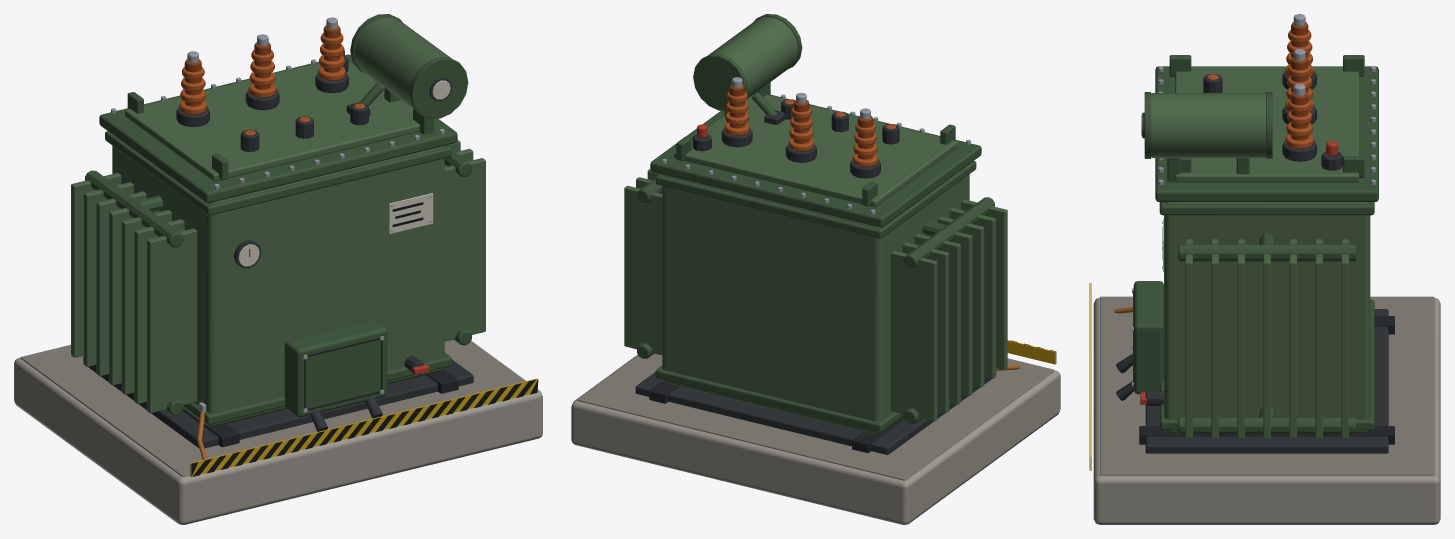
The model's file is py_transformer.glb.
3 views of the same model, side by side, from view 1: azimuth 30°, elevation 25°; view 2: azimuth 150°, elevation 25°; view 3: azimuth 270°, elevation 25° (orthographic). The views are drawn at different scales.
Parts seen in each view (by area): view 1: block.006, block.001, block.010, block.002, block.017, block.009, block.028, block.024, block.003, cyl.029, block.008, block (+10 smaller); view 2: block.006, block.001, block.002, block.010, block.011, block.009, block.018, block.003, cyl.029, block.008, block.007, block.012 (+8 smaller); view 3: block.006, block.002, block.001, block.010, cyl.029, block.009, block.003, block.028, cyl.026, block.008, cyl.025, block.018 (+13 smaller).
Boxes of the visible parts, left/top/right/bottom form: block.006: left=112, top=146, right=444, bottom=426; block.001: left=14, top=340, right=542, bottom=524; block.010: left=125, top=61, right=419, bottom=181; block.002: left=20, top=339, right=524, bottom=476; block.017: left=147, top=228, right=197, bottom=413; block.009: left=99, top=54, right=457, bottom=203; block.028: left=284, top=320, right=387, bottom=417; block.024: left=444, top=158, right=485, bottom=341; block.003: left=83, top=357, right=473, bottom=448; cyl.029: left=354, top=17, right=451, bottom=109; block.008: left=105, top=131, right=451, bottom=215; block: left=190, top=378, right=537, bottom=476; block.006: left=662, top=174, right=969, bottom=434; block.001: left=571, top=354, right=1060, bottom=524; block.002: left=577, top=353, right=1054, bottom=480; block.010: left=674, top=94, right=957, bottom=207; block.011: left=891, top=251, right=937, bottom=421; block.009: left=650, top=94, right=981, bottom=227; block.018: left=624, top=185, right=662, bottom=355; block.003: left=635, top=371, right=996, bottom=454; cyl.029: left=708, top=17, right=798, bottom=98; block.008: left=655, top=161, right=976, bottom=238; block.007: left=655, top=365, right=903, bottom=432; block.012: left=902, top=242, right=949, bottom=413; block.006: left=1164, top=202, right=1370, bottom=433; block.002: left=1100, top=296, right=1434, bottom=475; block.001: left=1093, top=297, right=1440, bottom=524; block.010: left=1175, top=66, right=1359, bottom=182; cyl.029: left=1151, top=93, right=1265, bottom=157; block.009: left=1155, top=66, right=1378, bottom=201; block.003: left=1145, top=309, right=1388, bottom=453; block.028: left=1133, top=281, right=1163, bottom=394; cyl.026: left=1178, top=244, right=1355, bottom=261; block.008: left=1159, top=202, right=1374, bottom=215; cyl.025: left=1178, top=417, right=1355, bottom=434; block.018: left=1341, top=239, right=1348, bottom=438.
Size of the model in its own units: 2 by 2 by 1.62.
